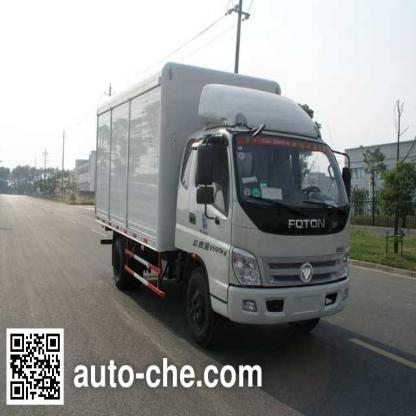normal-truck: (95, 71, 359, 337)
